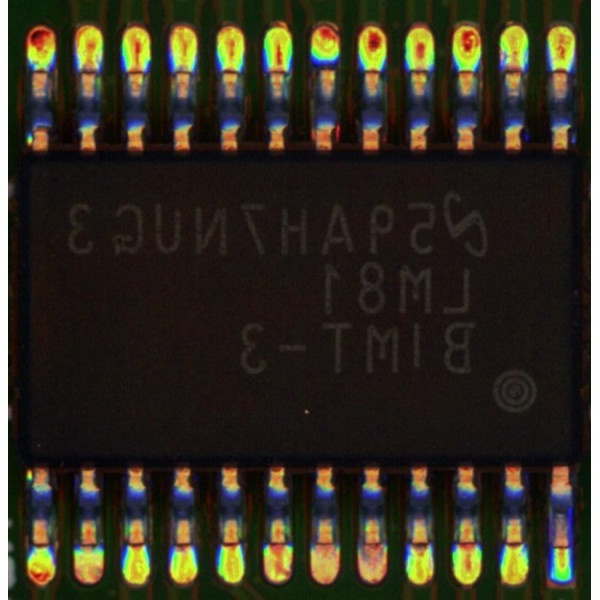Bad_podu: (271, 53, 287, 86), (129, 61, 144, 88), (80, 59, 95, 86), (505, 61, 520, 84), (224, 532, 238, 555), (271, 531, 286, 552), (459, 531, 471, 557), (366, 530, 379, 554), (412, 537, 428, 555), (556, 539, 568, 562), (130, 535, 143, 556), (318, 534, 331, 554), (176, 536, 189, 556)
